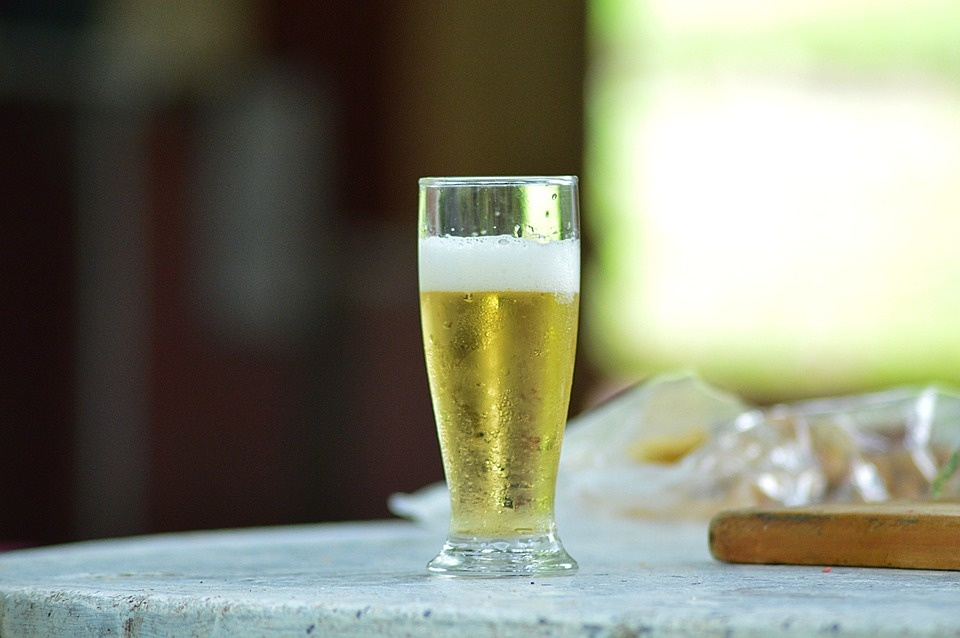glassBeer: (419, 176, 584, 567)
